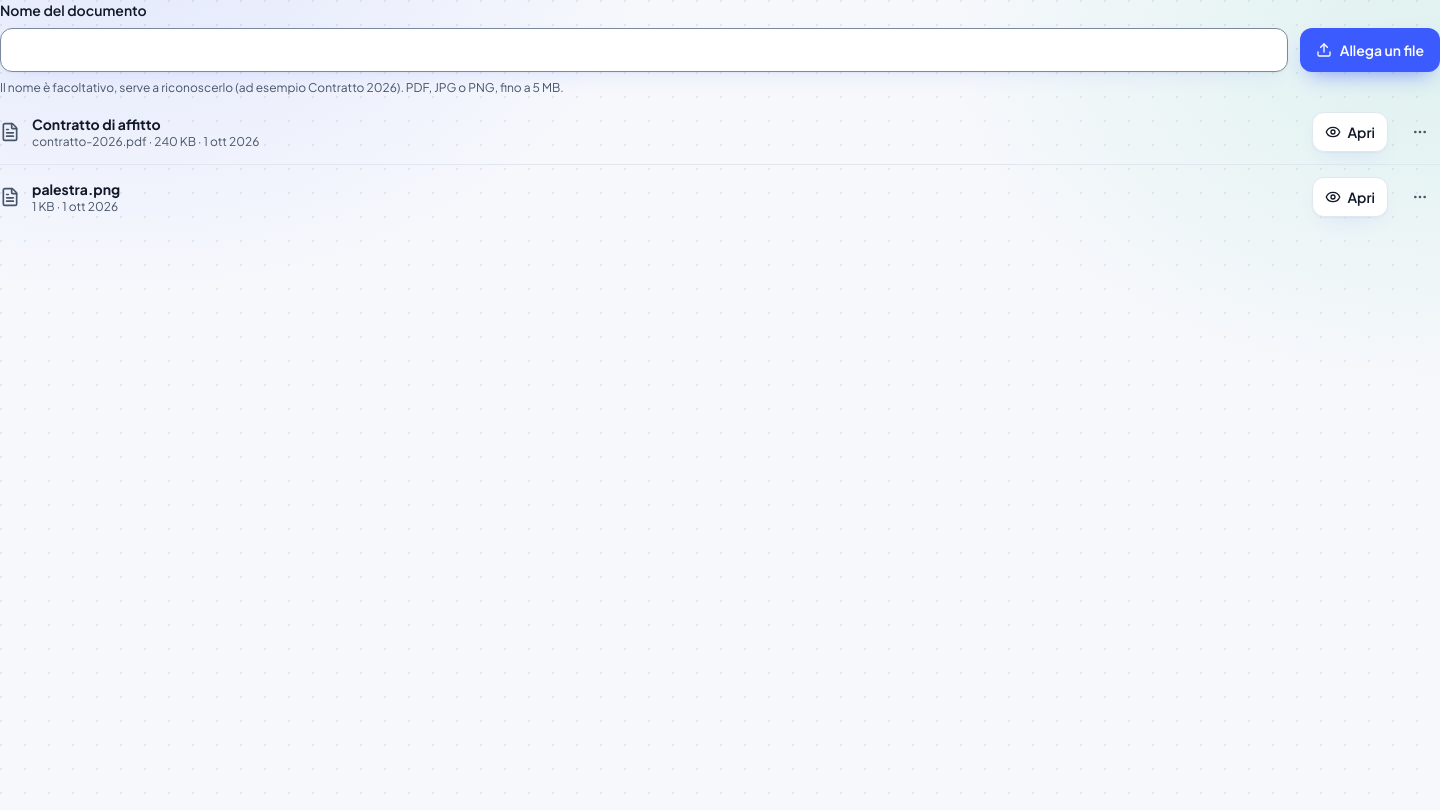
Scenario: AttachmentsPanel › deletes a file after the confirmation
What coordinates should you click on to do the following:
click the button named "Altre azioni di Contratto di affitto"
I would click on:
 (1420, 132)
Its box is x1=1400 y1=112 x2=1439 y2=152.
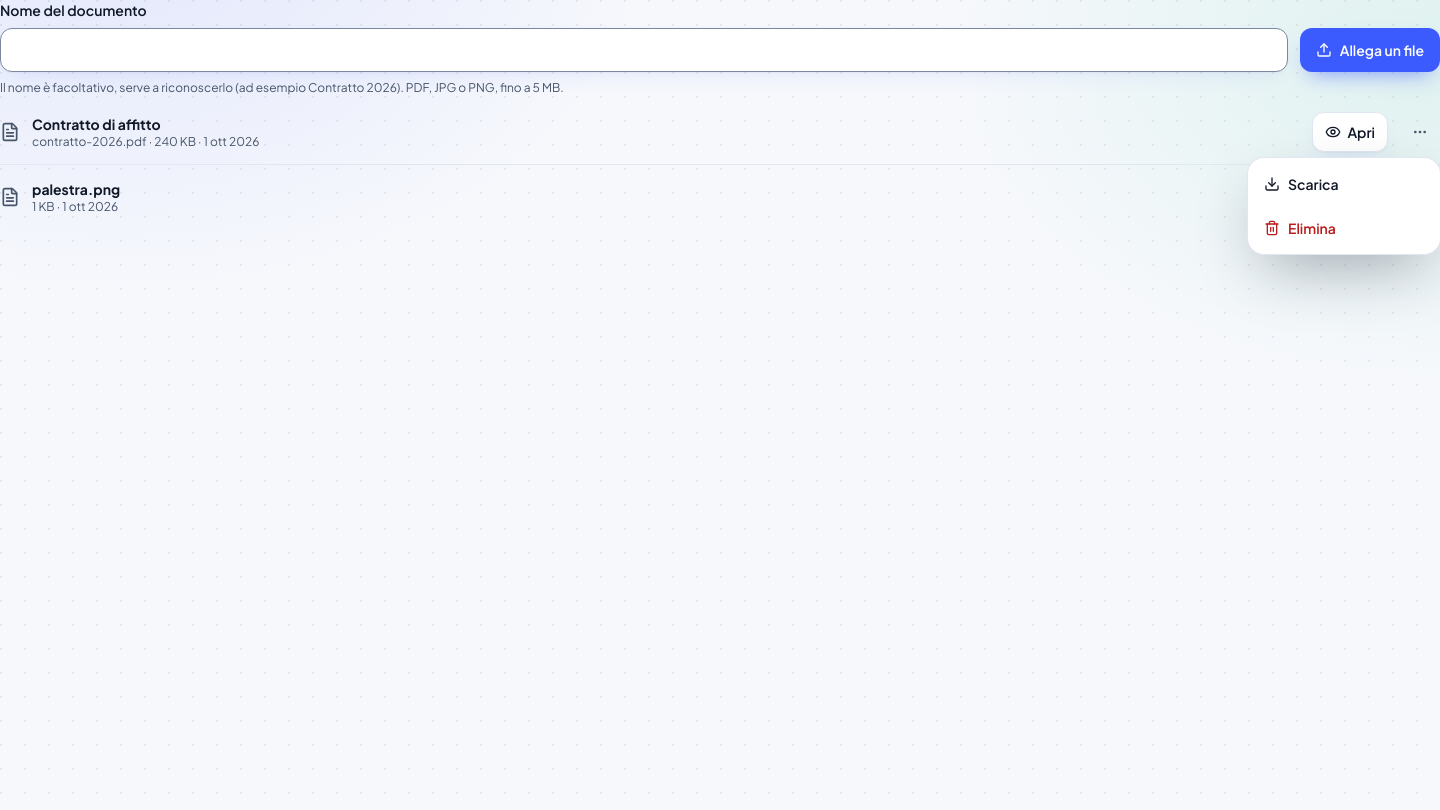
What coordinates should you click on to do the following:
click the menu item with aria-label "Elimina Contratto di affitto"
I would click on:
 (1300, 228)
Its box is x1=1264 y1=219 x2=1336 y2=237.
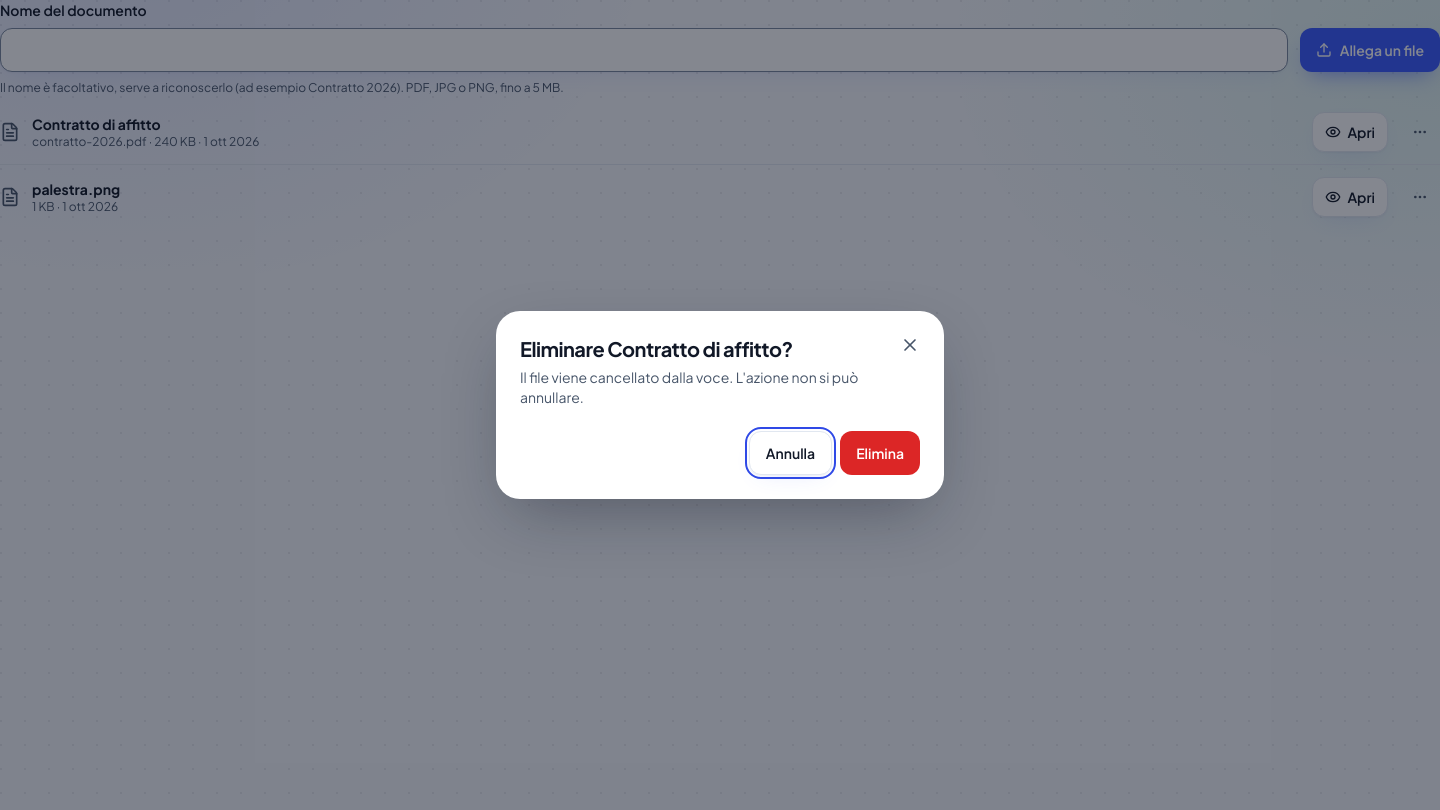
What coordinates should you click on to do the following:
click the button "Elimina"
I would click on:
 (880, 453)
Its box is x1=840 y1=431 x2=920 y2=475.
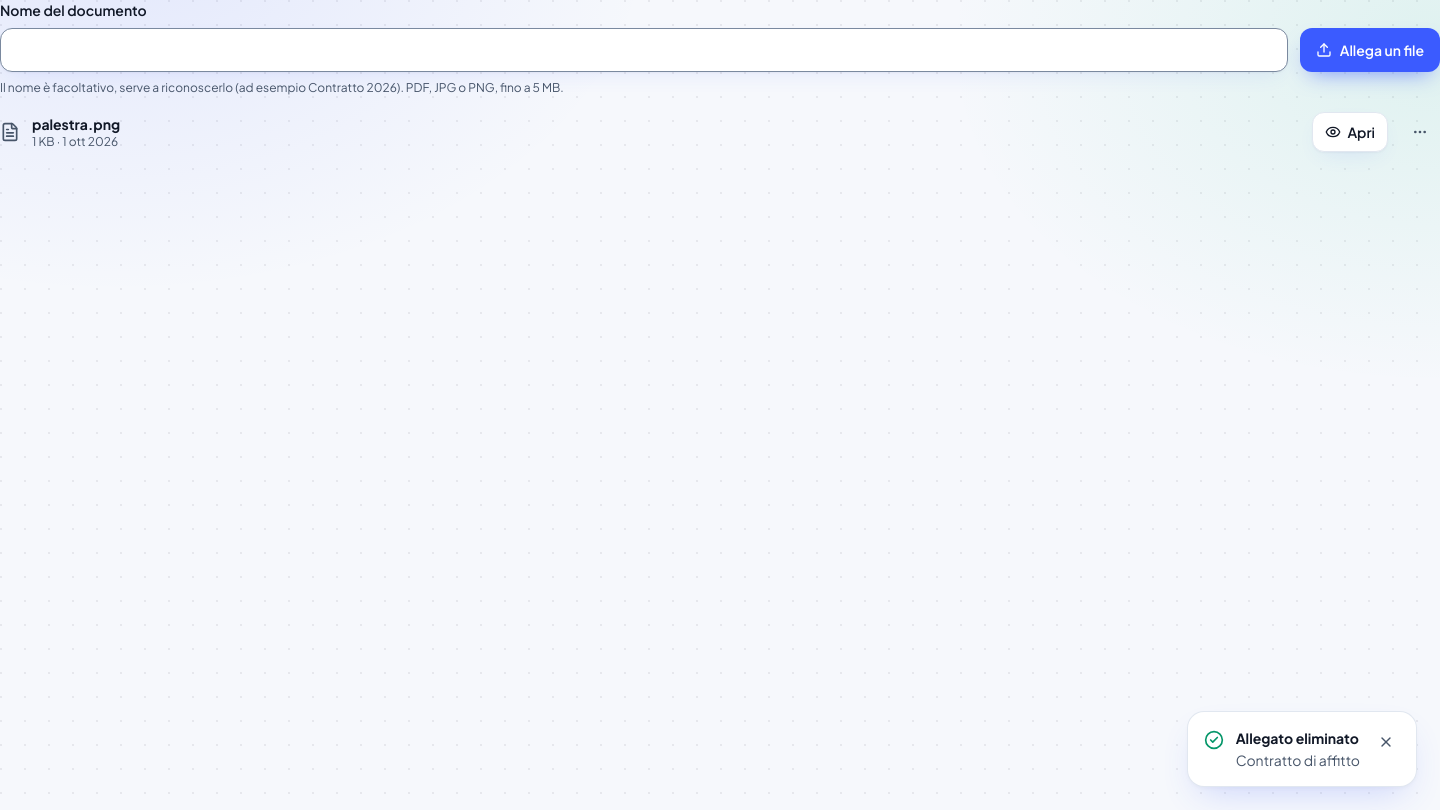
Expected: the text "palestra.png" is shown, x1=32 y1=115 x2=120 y2=133
Result: the text "Allegato eliminato" is shown at x1=1236 y1=728 x2=1360 y2=748
